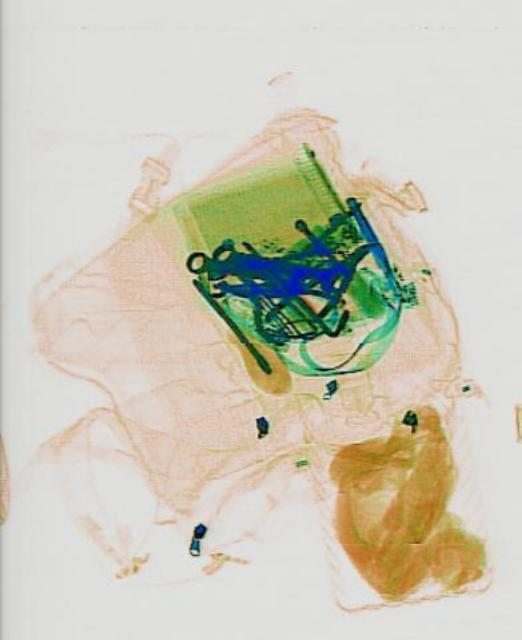Wrench: (183, 240, 351, 294)
